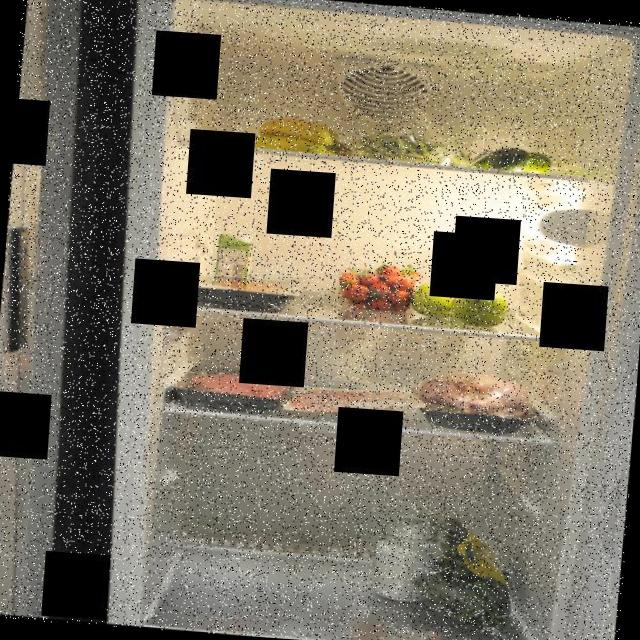Carne cerdo: (278, 382, 432, 422)
Carne pollo: (404, 364, 546, 436)
Carne vacuno: (175, 270, 306, 315)
Manzana: (414, 276, 513, 330)
Plátano: (233, 111, 354, 157)
